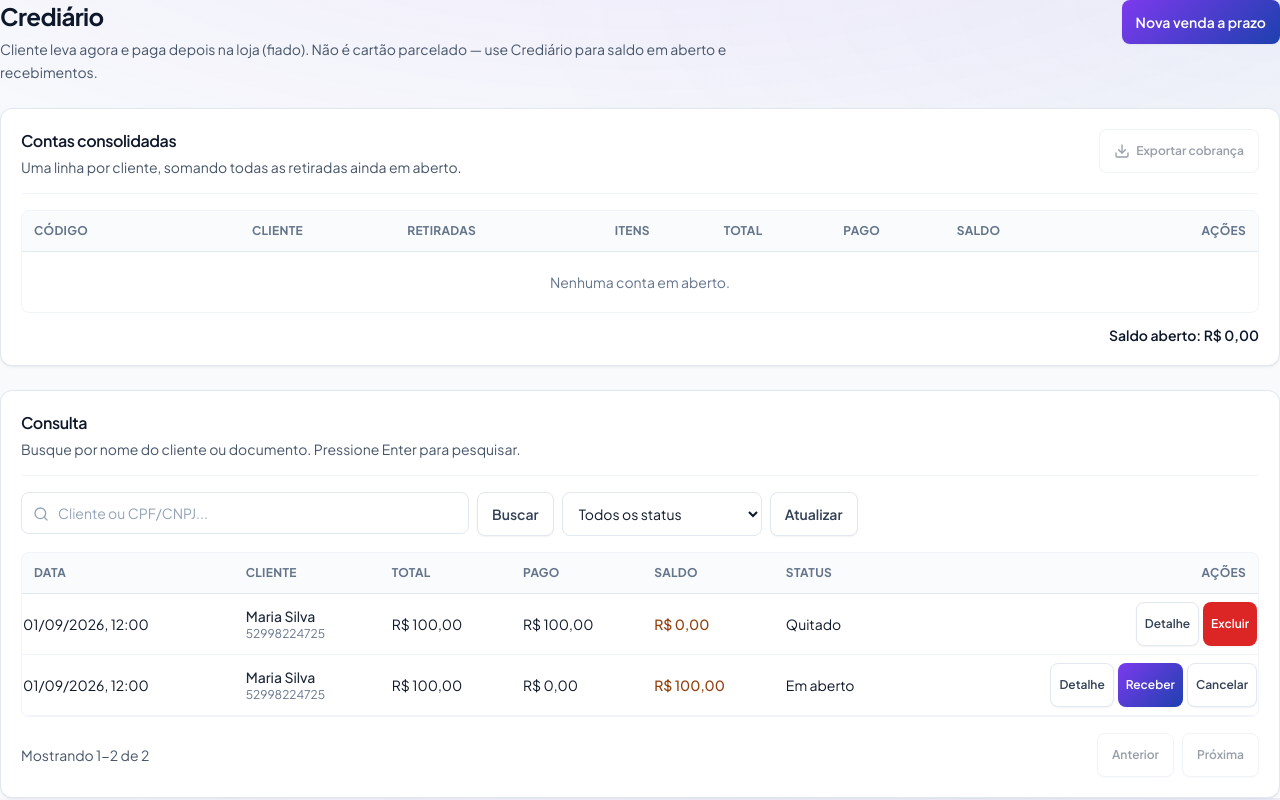
Test case: Telas React › abre modal de nova venda a prazo no crediario
This screenshot has width=1280, height=800.
Expected: the heading "Crediário" is shown, [0,0,104,32]
Click the button "Nova venda a prazo": click(1201, 22) [1122,0,1279,44]
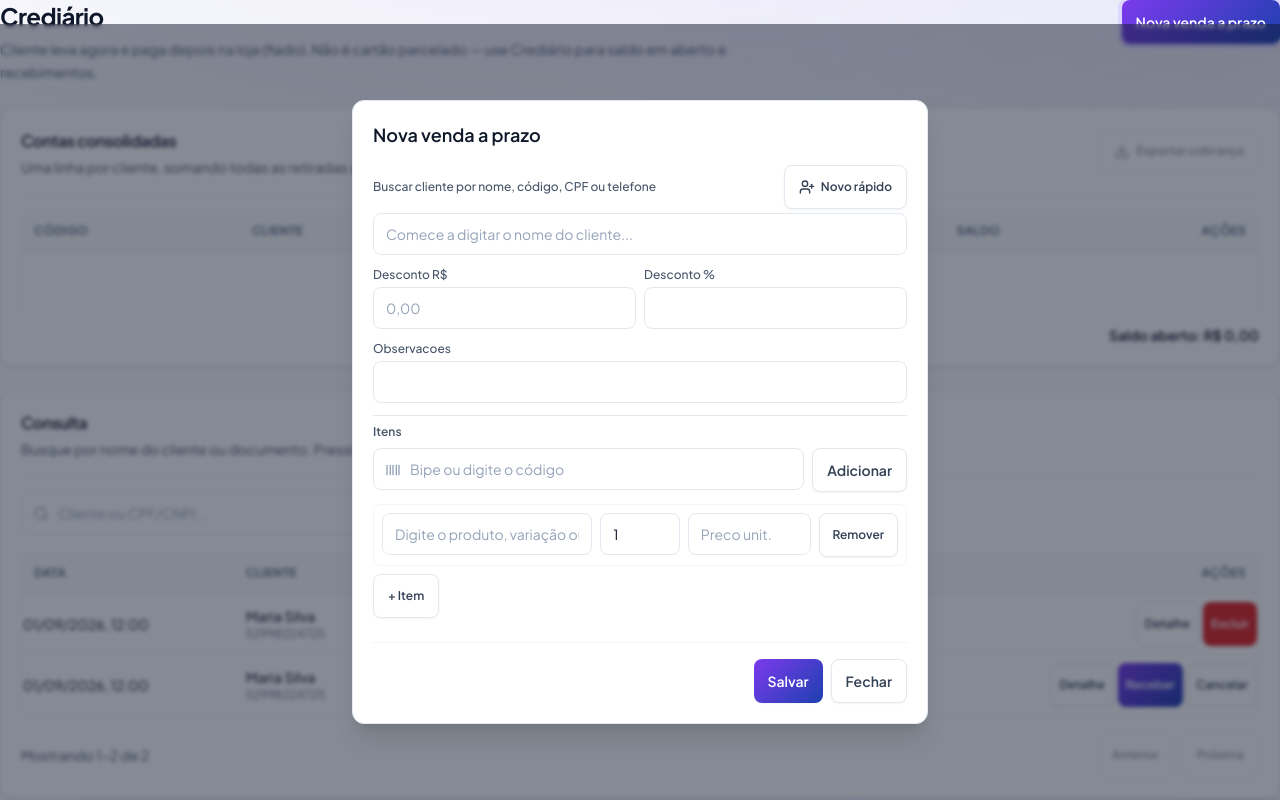
Result: the dialog "Nova venda a prazo" is shown at [352,100,928,724]
